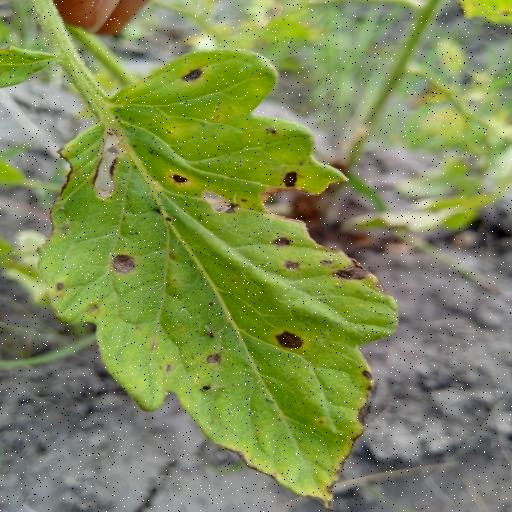Tomato_Brown_Spots: (37, 46, 405, 506)
